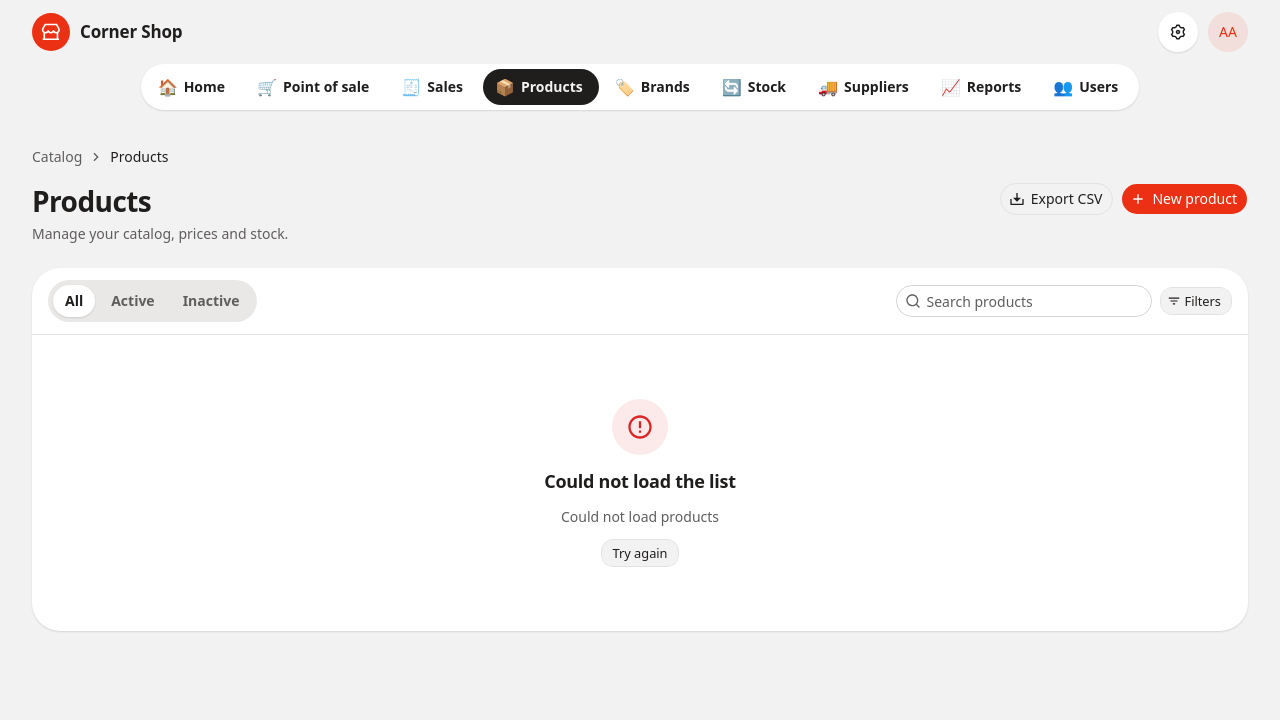
Test: ProductListPage › shows error state with Try again
The width and height of the screenshot is (1280, 720).
Click the button "Try again": (640, 553) x1=602 y1=539 x2=679 y2=567
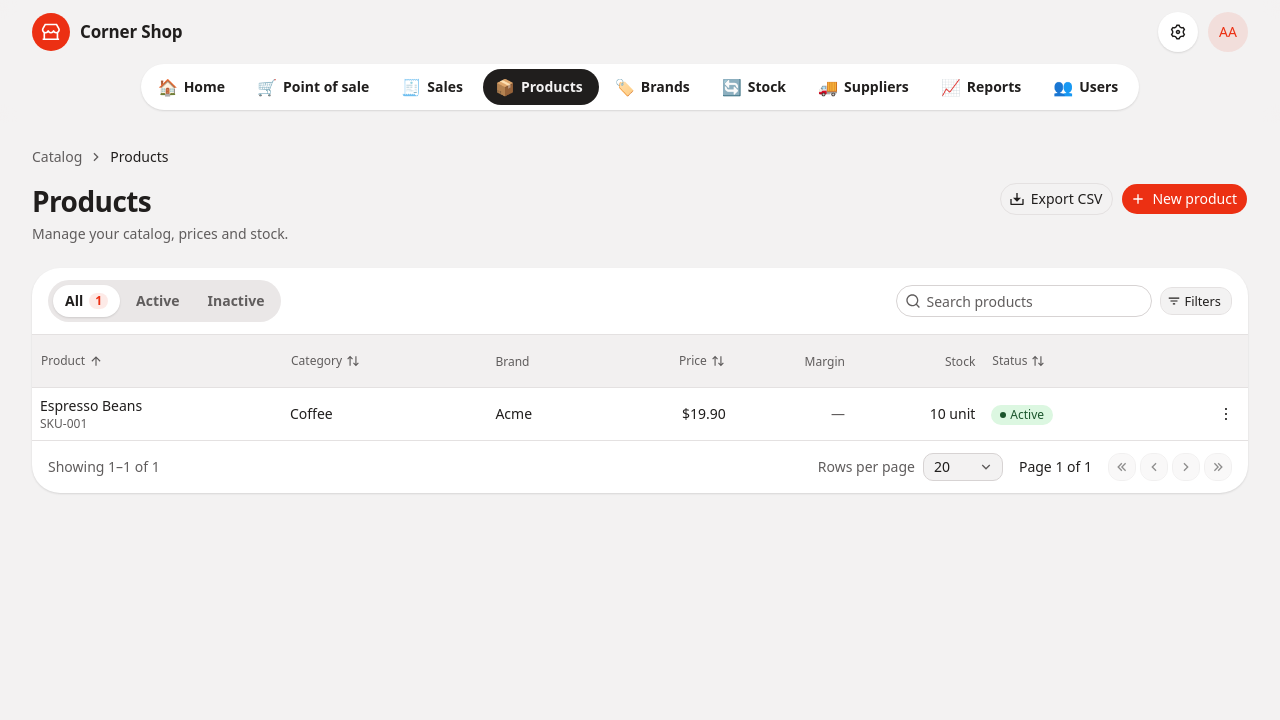
Expected: the link "Espresso Beans" is shown, x1=40 y1=396 x2=142 y2=415
